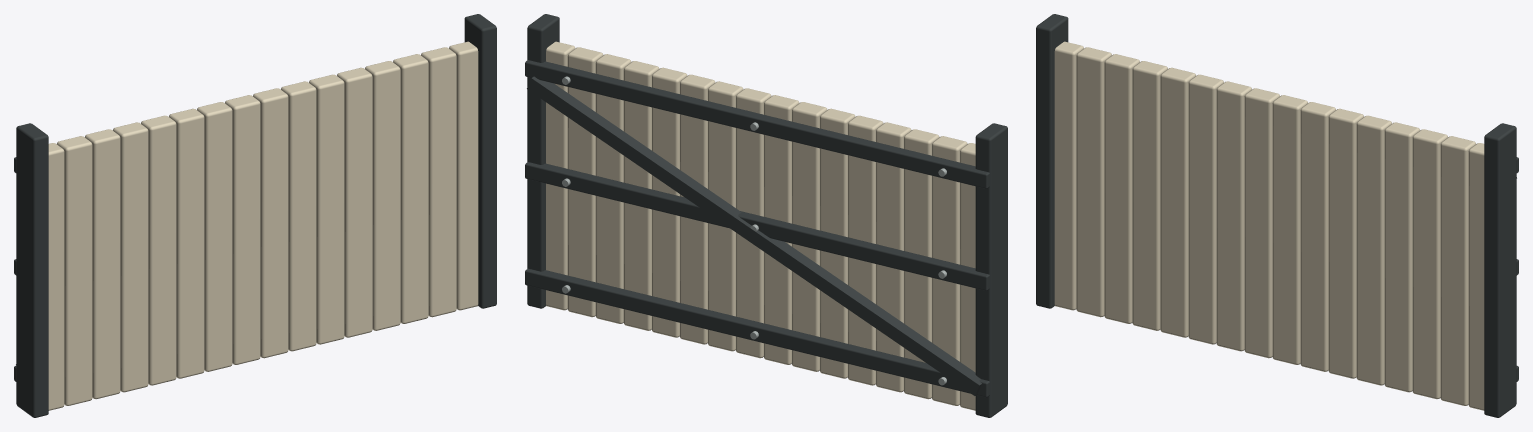
File: canal-boats-and-lock-operations-canal-boats-and-lock-o-e79038da__31621.glb
3 renders of one model, left to right at view 1: azimuth 30°, elevation 25°; view 2: azimuth 150°, elevation 25°; view 3: azimuth 330°, elevation 25°, orthographic.
Visible parts, largest first — view 1: canal-boats-and-lock-operations-upper-single-lock-gate; view 2: canal-boats-and-lock-operations-upper-single-lock-gate; view 3: canal-boats-and-lock-operations-upper-single-lock-gate.
Part boxes in pixels (left/top/right/bottom): canal-boats-and-lock-operations-upper-single-lock-gate: left=14, top=14, right=496, bottom=417; canal-boats-and-lock-operations-upper-single-lock-gate: left=525, top=14, right=1007, bottom=417; canal-boats-and-lock-operations-upper-single-lock-gate: left=1036, top=14, right=1518, bottom=417.
Bounding box in the file's own units: 3.19 × 1.84 × 0.2823.
